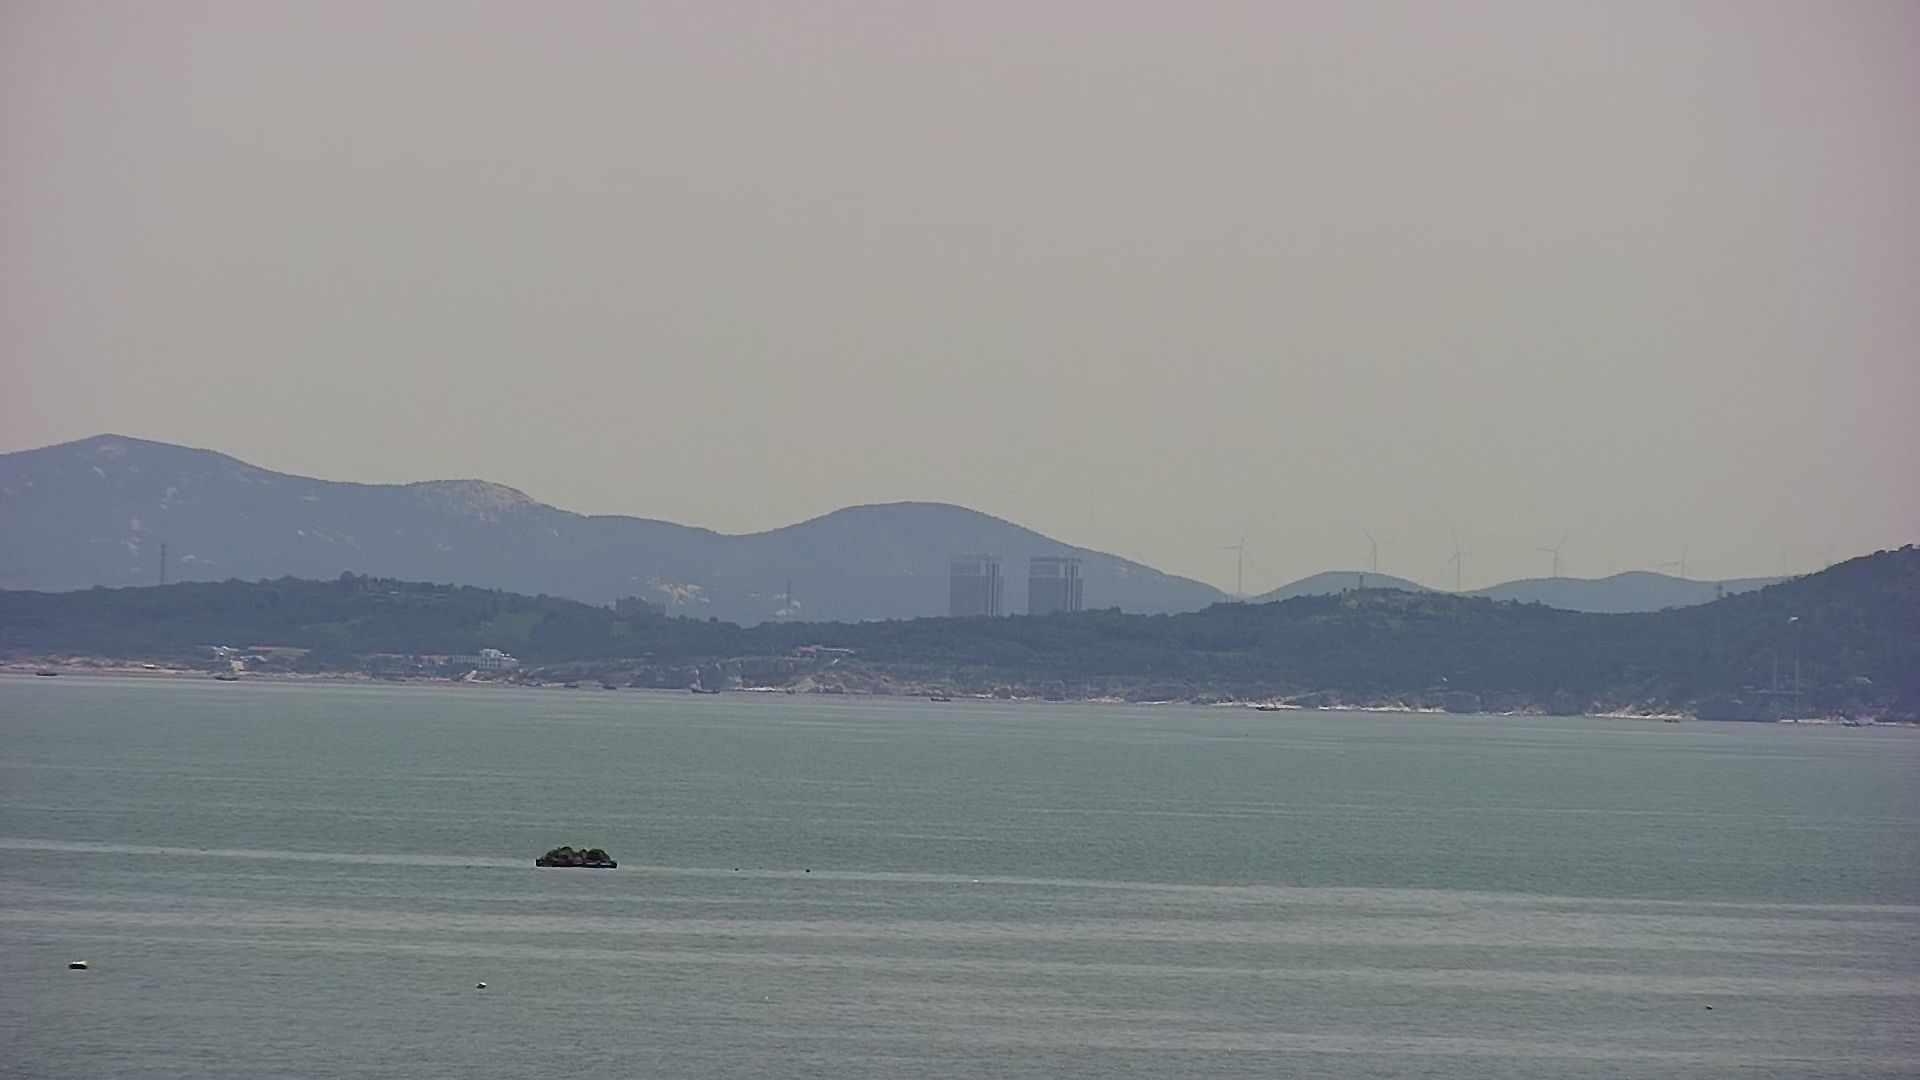rubbish: (531, 843, 618, 869)
